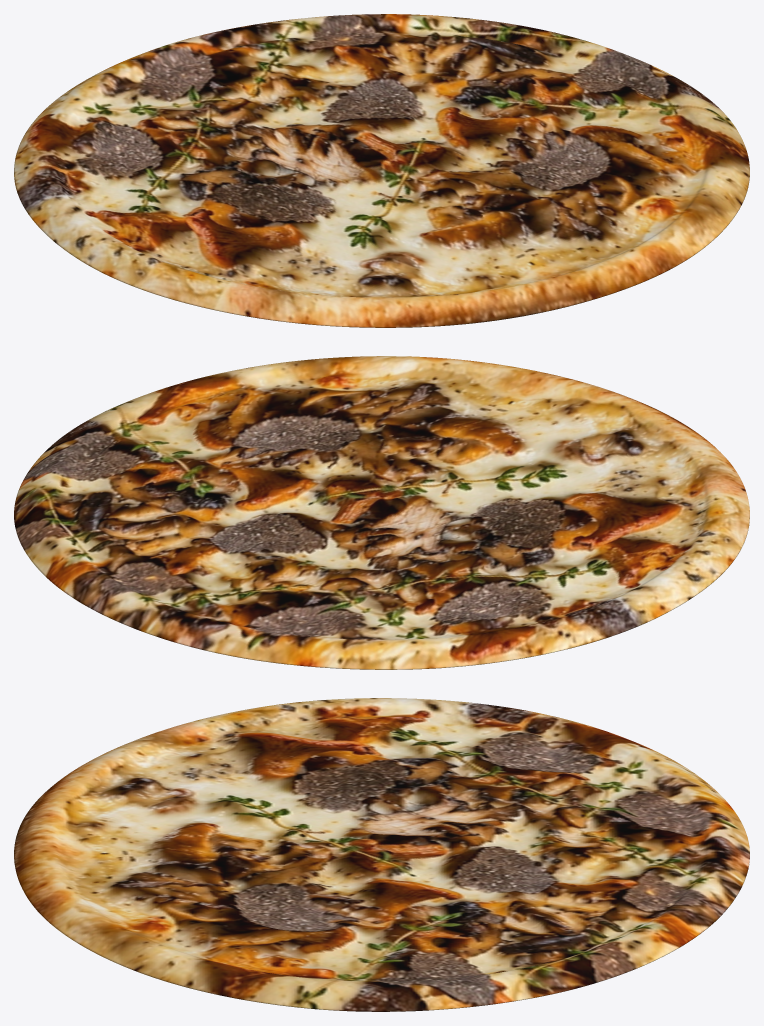
File: mushroom-truffle-pizza-balanced.glb
3 views of the same model, one above another, from view 1: azimuth 30°, elevation 25°; view 2: azimuth 150°, elevation 25°; view 3: azimuth 270°, elevation 25° (orthographic).
Parts seen in each view (by area): view 1: Artisan_Pizza; view 2: Artisan_Pizza; view 3: Artisan_Pizza.
Part boxes in pixels (left/top/right/bottom): Artisan_Pizza: left=14, top=14, right=749, bottom=327; Artisan_Pizza: left=14, top=356, right=749, bottom=669; Artisan_Pizza: left=14, top=698, right=749, bottom=1011.
Size of the model in its own units: 2.39 by 0.0555 by 2.39.
1 material, 1 textured.
